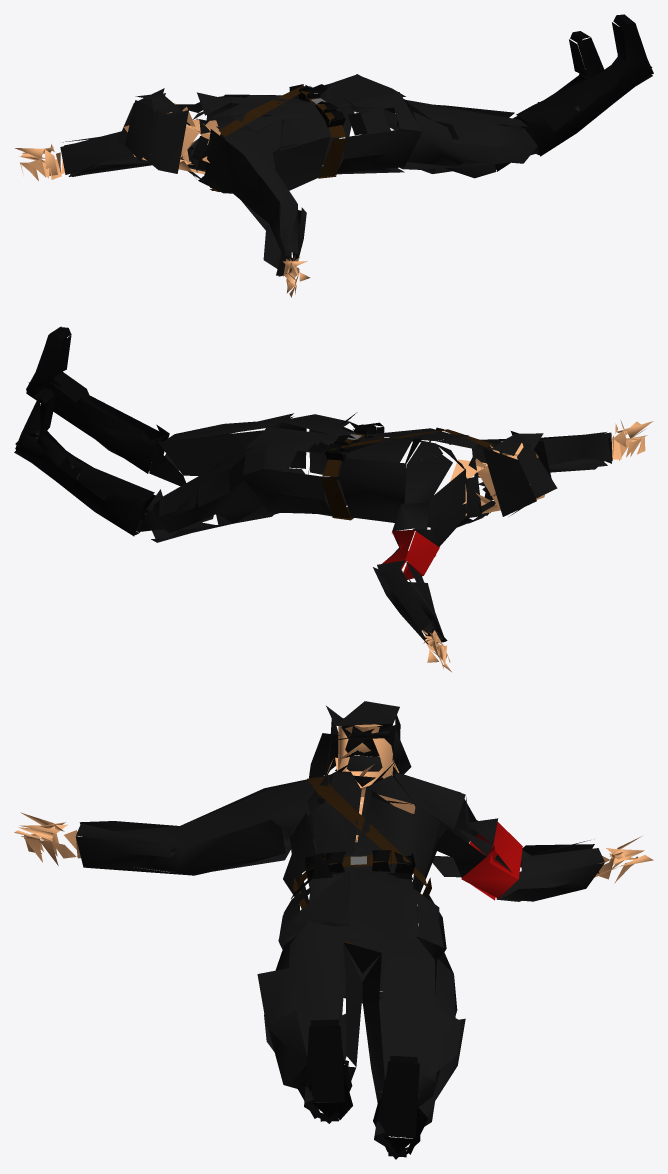
Rendered from dead_sol_on_side.glb.
3 views of the same model, one above another, from view 1: azimuth 30°, elevation 25°; view 2: azimuth 150°, elevation 25°; view 3: azimuth 270°, elevation 25° (orthographic). The views are drawn at different scales.
Visible parts, largest first — view 1: Soldier_1, Helmet; view 2: Soldier_1, Helmet; view 3: Soldier_1, Helmet.
Boxes of the visible parts, x1,y1,x2,y2 form: Soldier_1: (15,14,653,297); Helmet: (117,88,188,173); Soldier_1: (14,326,653,671); Helmet: (482,431,557,516); Soldier_1: (14,724,653,1159); Helmet: (309,701,411,778).
Size of the model in its own units: 1.79 by 0.5524 by 1.45.
Materials: 1 (1 with a texture image).
